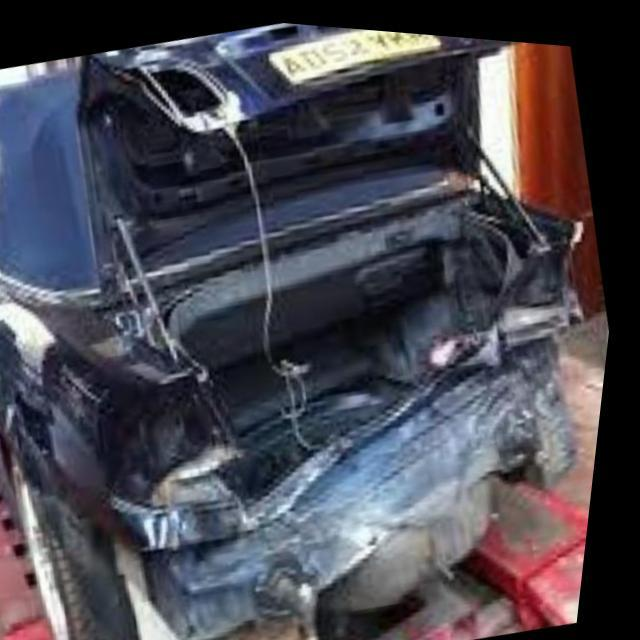no part: (39, 20, 593, 640)
